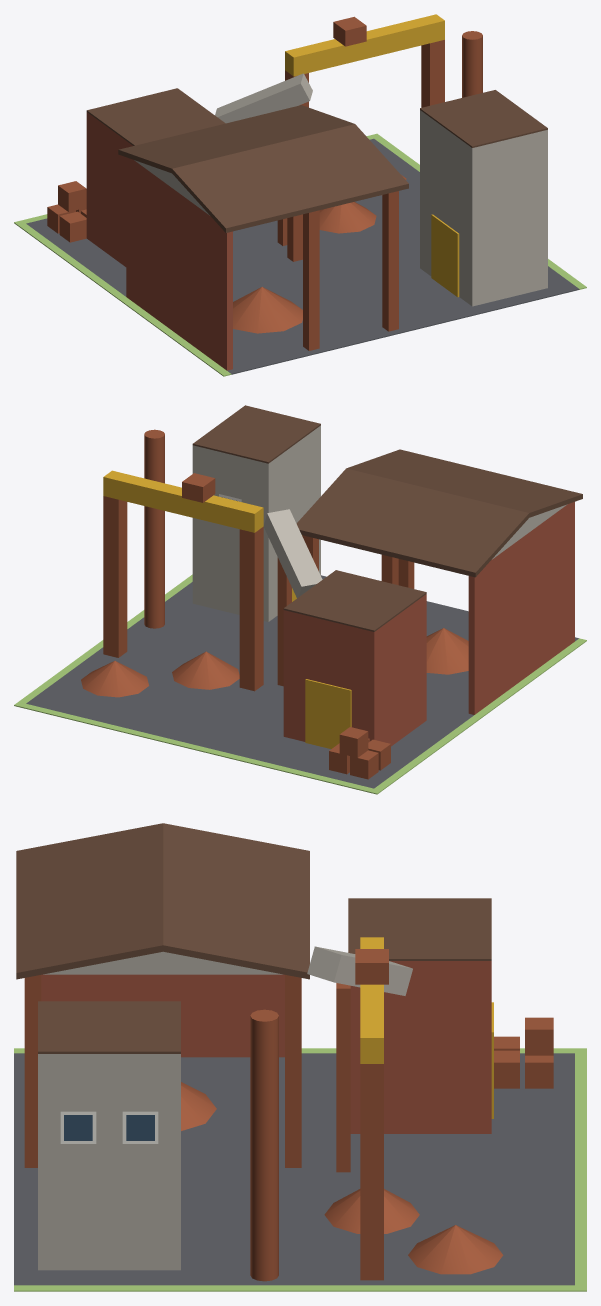
3 views of the same model, one above another, from view 1: azimuth 30°, elevation 25°; view 2: azimuth 150°, elevation 25°; view 3: azimuth 270°, elevation 25° (orthographic). The views are drawn at different scales.
Visible parts, largest first — view 1: roof (×4), shredder (×2), asphalt, wall, column (×3), crane, heap (×2), lawn (×2), conveyor, garage_door, leg, bale (×2) (+3 smaller); view 2: roof (×4), asphalt, shredder (×2), wall, leg (×3), heap (×3), lawn (×3), crane, smoke_stack, garage_door, conveyor, bale (×2) (+2 smaller); view 3: asphalt, roof (×4), shredder (×2), wall, leg (×2), smoke_stack, lawn (×2), heap (×3), column (×2), bale (×3), gable, crane (+3 smaller).
Boxes of the visible parts, x1,y1,x2,y2 form: roof (×4): [86, 88, 547, 232]; shredder (×2): [86, 110, 547, 306]; asphalt: [26, 138, 579, 374]; wall: [126, 157, 232, 370]; column (×3): [287, 191, 398, 350]; crane: [285, 14, 444, 76]; heap (×2): [233, 202, 376, 333]; lawn (×2): [14, 133, 586, 376]; conveyor: [215, 73, 312, 123]; garage_door: [431, 214, 459, 297]; leg: [421, 40, 444, 107]; bale (×2): [58, 181, 86, 242]; roof (×4): [192, 405, 582, 631]; asphalt: [26, 575, 578, 788]; shredder (×2): [192, 425, 426, 746]; wall: [468, 502, 574, 714]; leg (×3): [103, 496, 291, 691]; heap (×3): [81, 628, 468, 697]; lawn (×3): [14, 574, 586, 794]; crane: [103, 470, 263, 532]; smoke_stack: [144, 429, 164, 628]; garage_door: [305, 679, 351, 748]; conveyor: [263, 509, 322, 598]; bale (×2): [339, 727, 378, 779]; asphalt: [14, 1053, 574, 1285]; roof (×4): [16, 823, 491, 1053]; shredder (×2): [38, 961, 491, 1270]; wall: [41, 974, 284, 1057]; leg (×2): [336, 983, 383, 1280]; smoke_stack: [250, 1009, 278, 1281]; lawn (×2): [14, 1053, 586, 1291]; heap (×3): [181, 1082, 503, 1274]; column (×2): [24, 975, 301, 1167]; bale (×3): [494, 1017, 553, 1088]; gable: [43, 951, 282, 974]; crane: [360, 937, 383, 1063].
Bounding box in the file's own units: 24 × 12.26 × 24.
